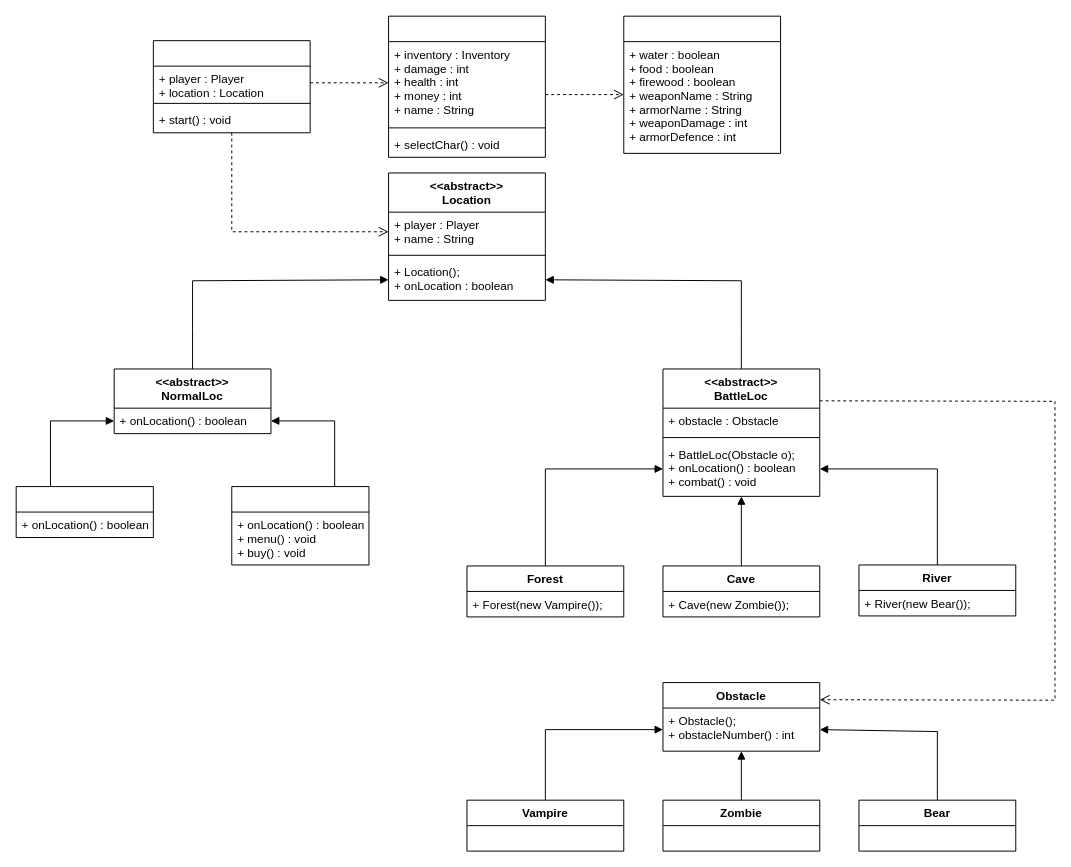
Some shapes in this 1071 by 867 pixel diagram are drawn without their labels. The box of each missing label's shape, as (x1, y1, x2, y2) in pixels:
Game: (152, 40, 310, 133)
Inventory: (623, 15, 781, 153)
Player: (388, 15, 545, 157)
SafeHouse: (15, 486, 153, 538)
Toolstore: (231, 486, 369, 565)
